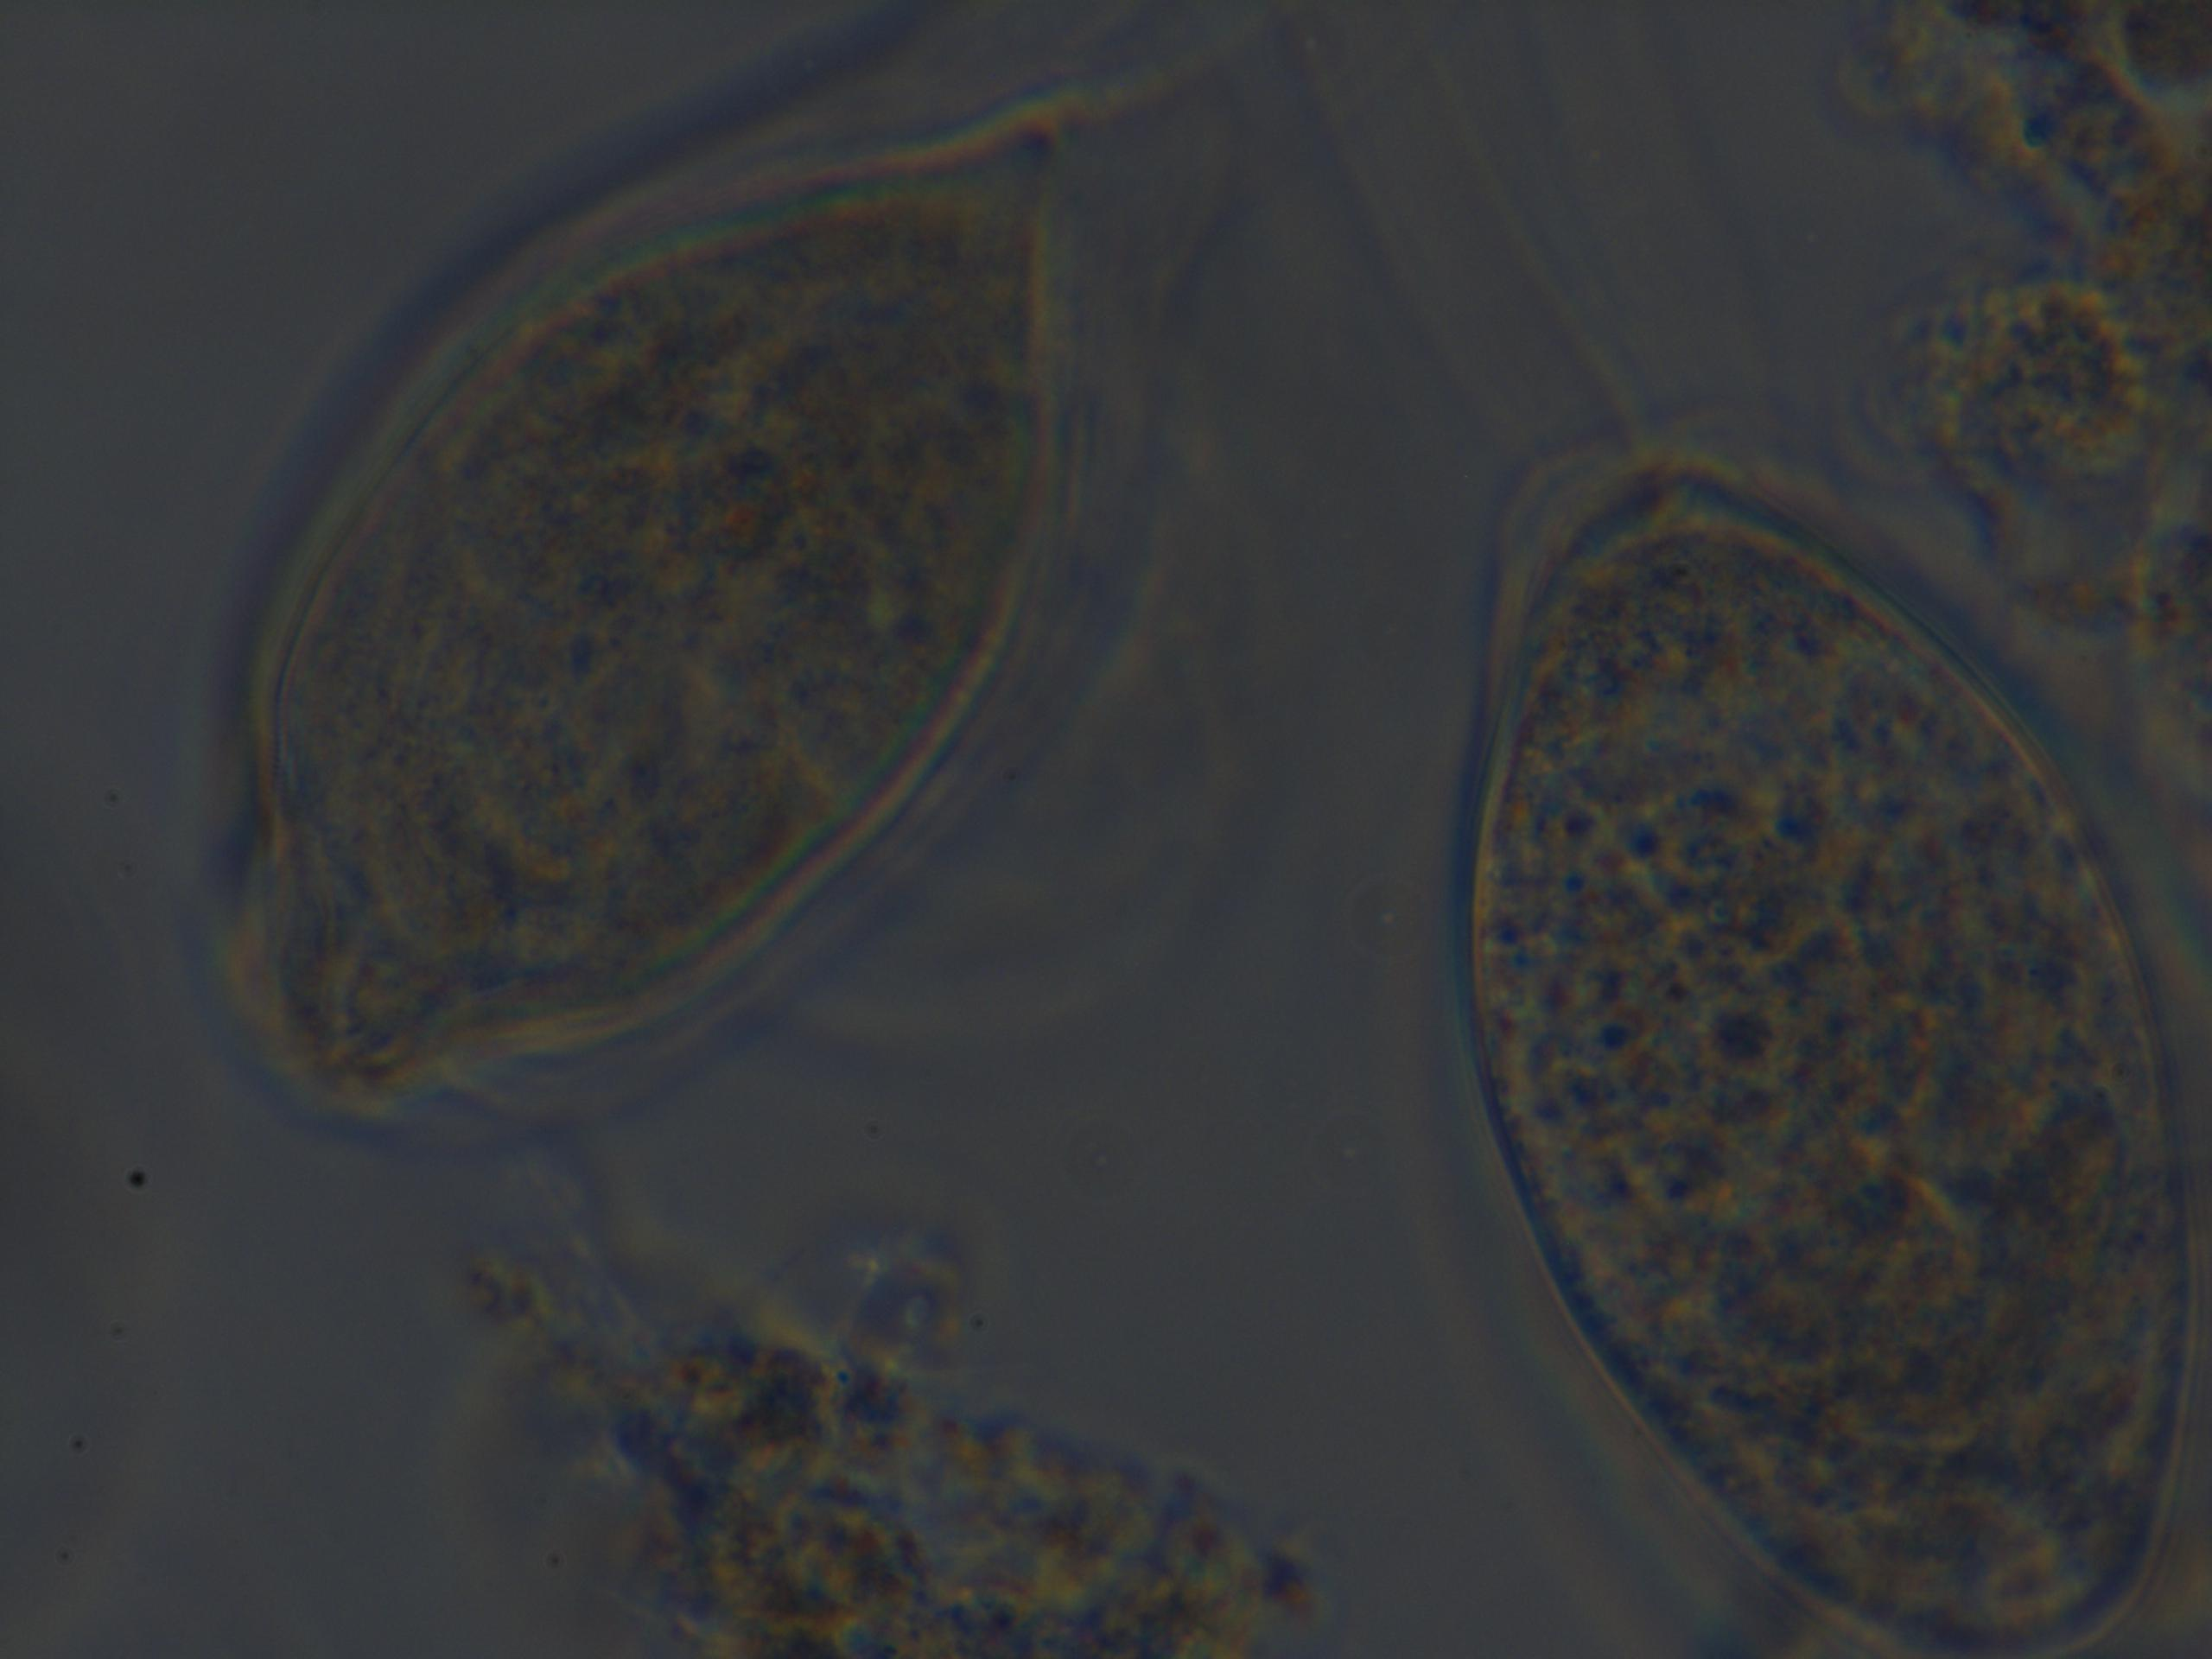protozoa: (1285, 31, 2179, 1647), (172, 10, 1271, 1138)
